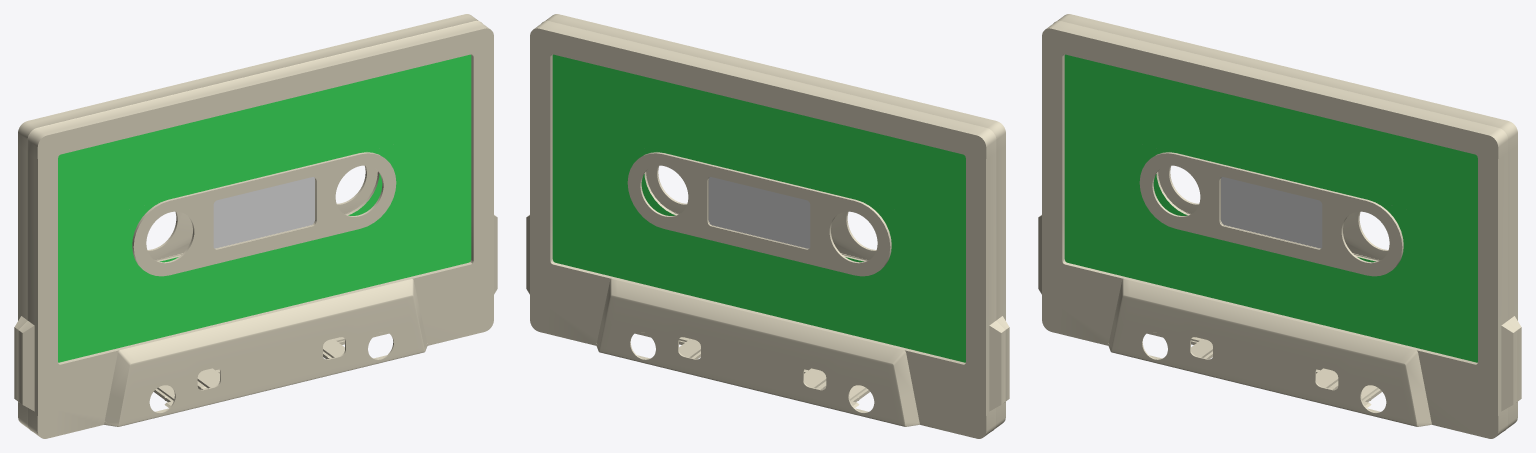
Rendered from cassette_exterior.glb.
The picture shows the model from 3 angles, left to right: view 1: azimuth 30°, elevation 25°; view 2: azimuth 150°, elevation 25°; view 3: azimuth 330°, elevation 25°; orthographic projection.
Parts seen in each view (by area): view 1: Cube.001; view 2: Cube.001; view 3: Cube.001.
Part boxes in pixels (<box>): Cube.001: <box>14,14,497,438</box>; Cube.001: <box>526,14,1009,438</box>; Cube.001: <box>1038,14,1521,438</box>.
Bounding box in the file's own units: 1.05 × 0.6403 × 0.121.
